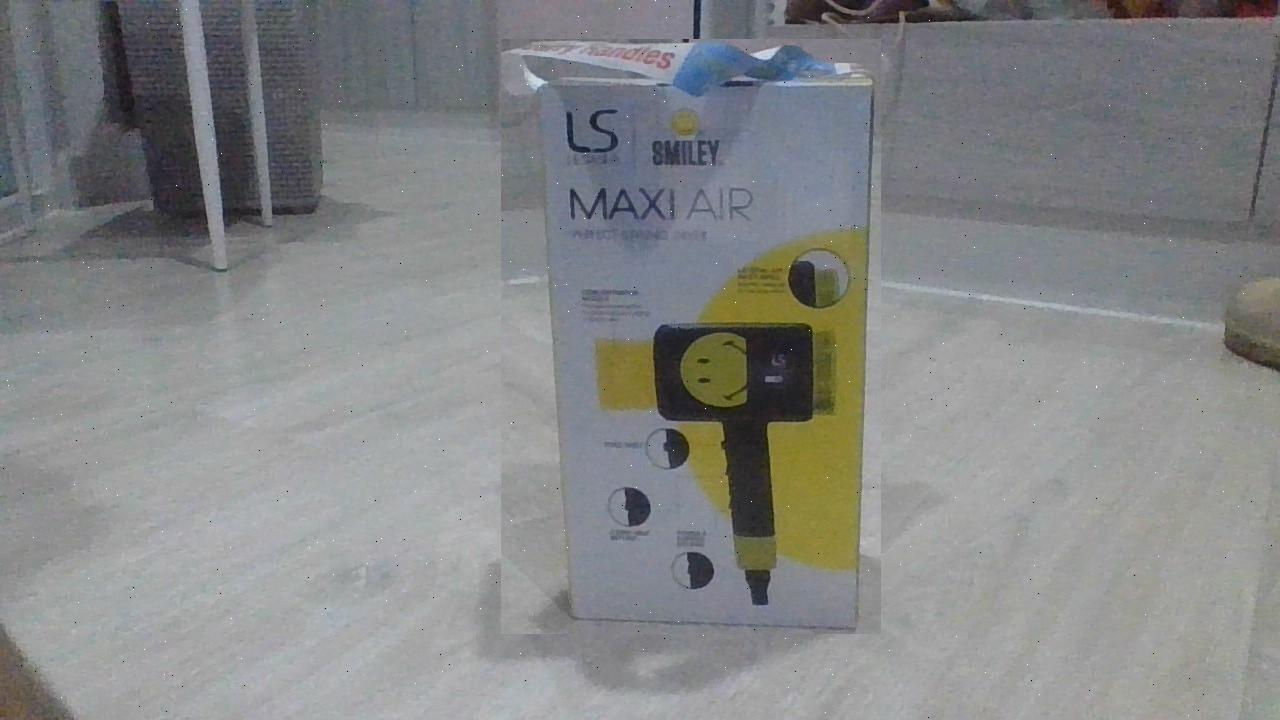IRON: (501, 39, 881, 634)
